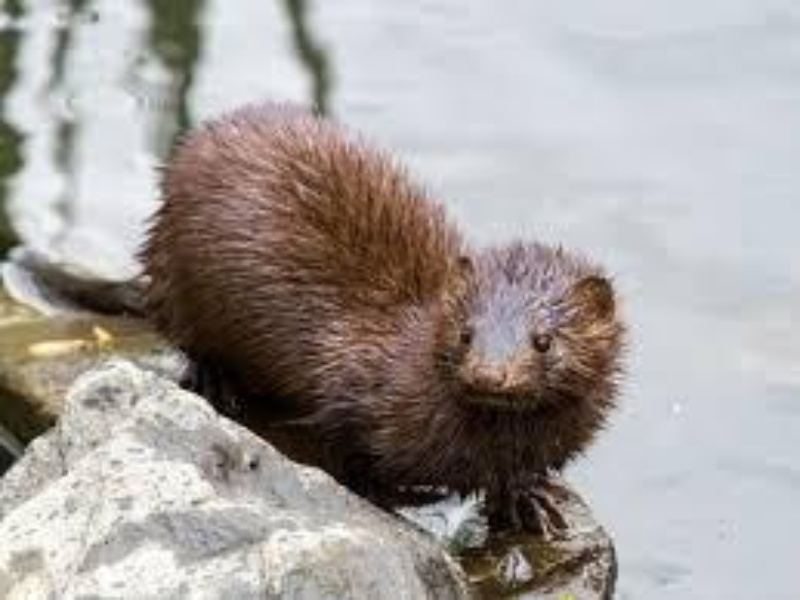minkish: (38, 103, 629, 539)
